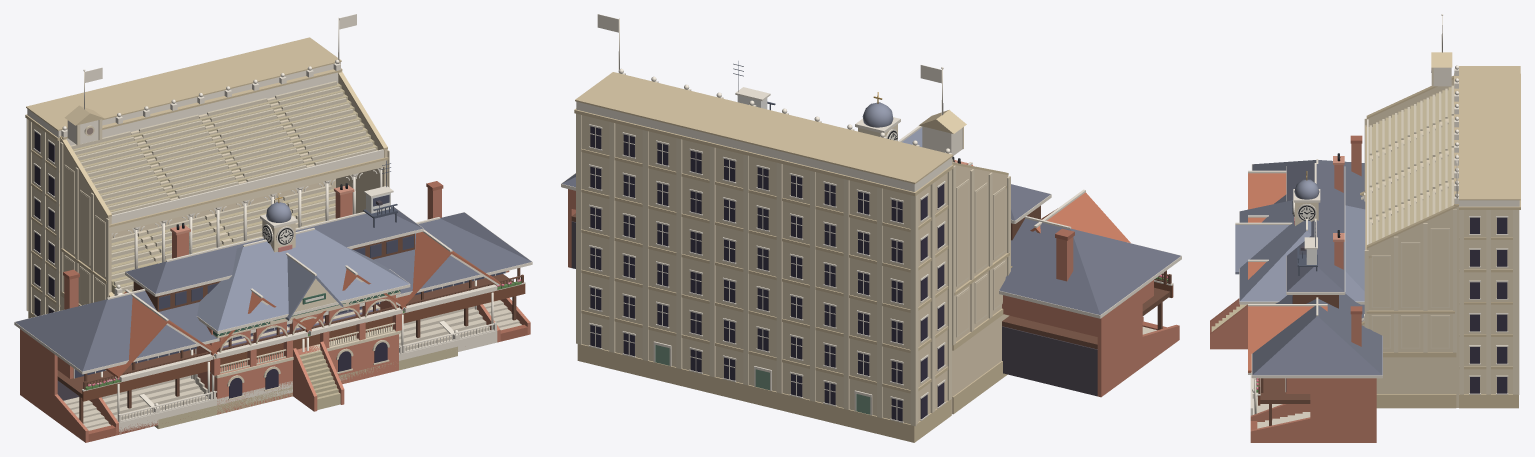
The model's file is gen-tight-r-big_stands.glb.
3 views of the same model, side by side, from view 1: azimuth 30°, elevation 25°; view 2: azimuth 150°, elevation 25°; view 3: azimuth 270°, elevation 25° (orthographic). The views are drawn at different scales.
Parts seen in each view (by area): view 1: park_roof_terrace_stand, gen_garden_stand, park_old_pavilion, chester_tattersalls; view 2: park_roof_terrace_stand, gen_garden_stand, chester_tattersalls, park_old_pavilion; view 3: park_roof_terrace_stand, gen_garden_stand, park_old_pavilion, chester_tattersalls.
Boxes of the visible parts, bbox=[...] form: park_roof_terrace_stand: bbox=[25, 14, 460, 428]; gen_garden_stand: bbox=[14, 160, 532, 442]; park_old_pavilion: bbox=[170, 183, 410, 414]; chester_tattersalls: bbox=[89, 229, 500, 435]; park_roof_terrace_stand: bbox=[574, 14, 1012, 442]; gen_garden_stand: bbox=[561, 61, 1181, 397]; chester_tattersalls: bbox=[968, 162, 1143, 321]; park_old_pavilion: bbox=[855, 92, 968, 164]; park_roof_terrace_stand: bbox=[1252, 14, 1520, 408]; gen_garden_stand: bbox=[1250, 135, 1382, 442]; park_old_pavilion: bbox=[1210, 153, 1365, 349]; chester_tattersalls: bbox=[1248, 170, 1327, 421].
Size of the model in its own units: 59.5 by 35.42 by 36.97.
